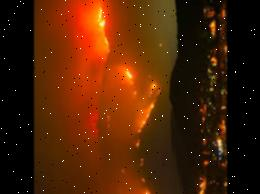fire: (78, 0, 172, 194)
